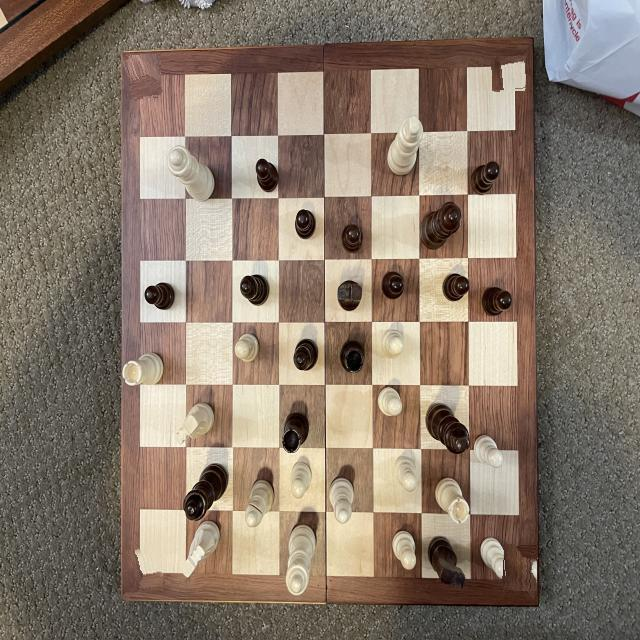chess-table-corners: (124, 546, 163, 592), (125, 54, 161, 100), (502, 544, 537, 591), (491, 56, 526, 92)
